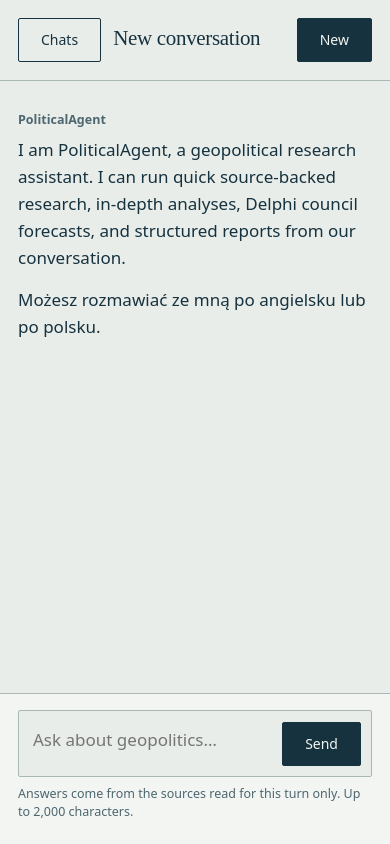
Test case: the app shell › mobile conversation drawer › choosing a thread or a new conversation closes the drawer
Click the button "Chats" at (60, 40), box [18, 18, 101, 62]
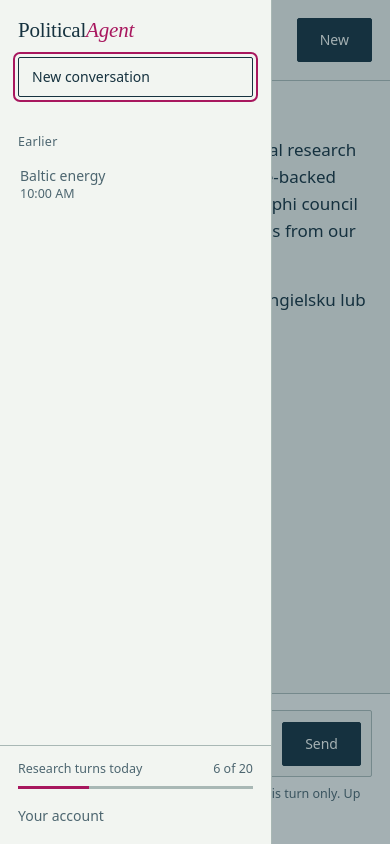
Click the link "Baltic energy 10:00 AM" at (63, 184), box [20, 166, 105, 202]
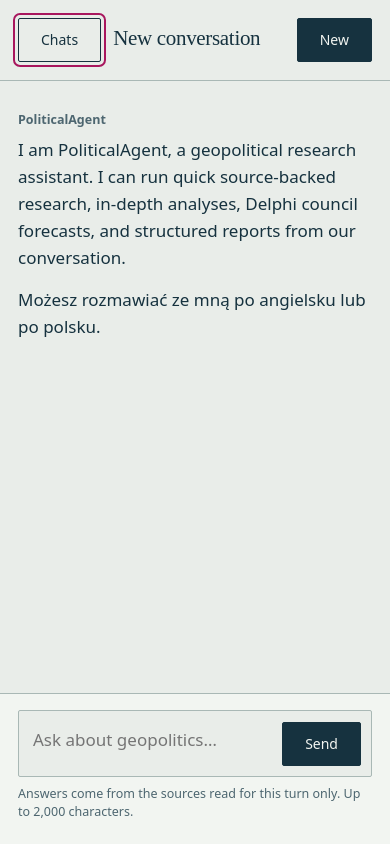
Result: the button "Chats" is collapsed
Click the button "Chats" at (60, 40), box [18, 18, 101, 62]
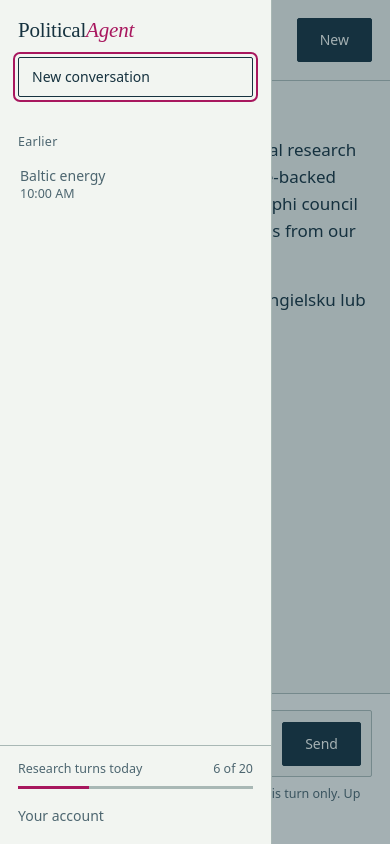
Result: the button "Chats" is expanded at [18, 18, 101, 62]
Click the button "New conversation" at (136, 77), box [18, 57, 253, 97]
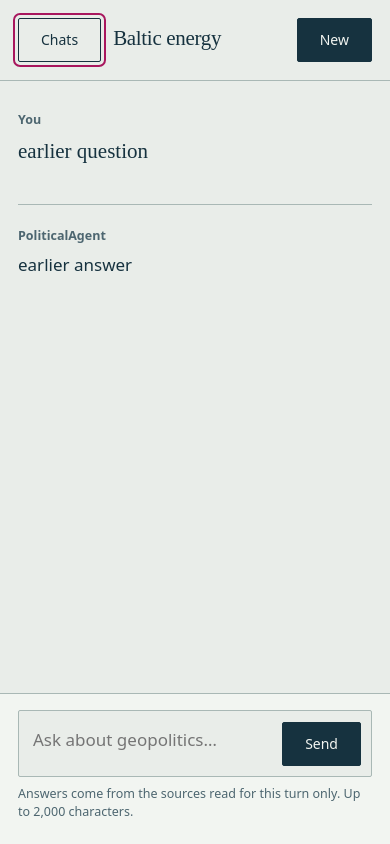
Result: the button "Chats" is collapsed at [18, 18, 101, 62]
